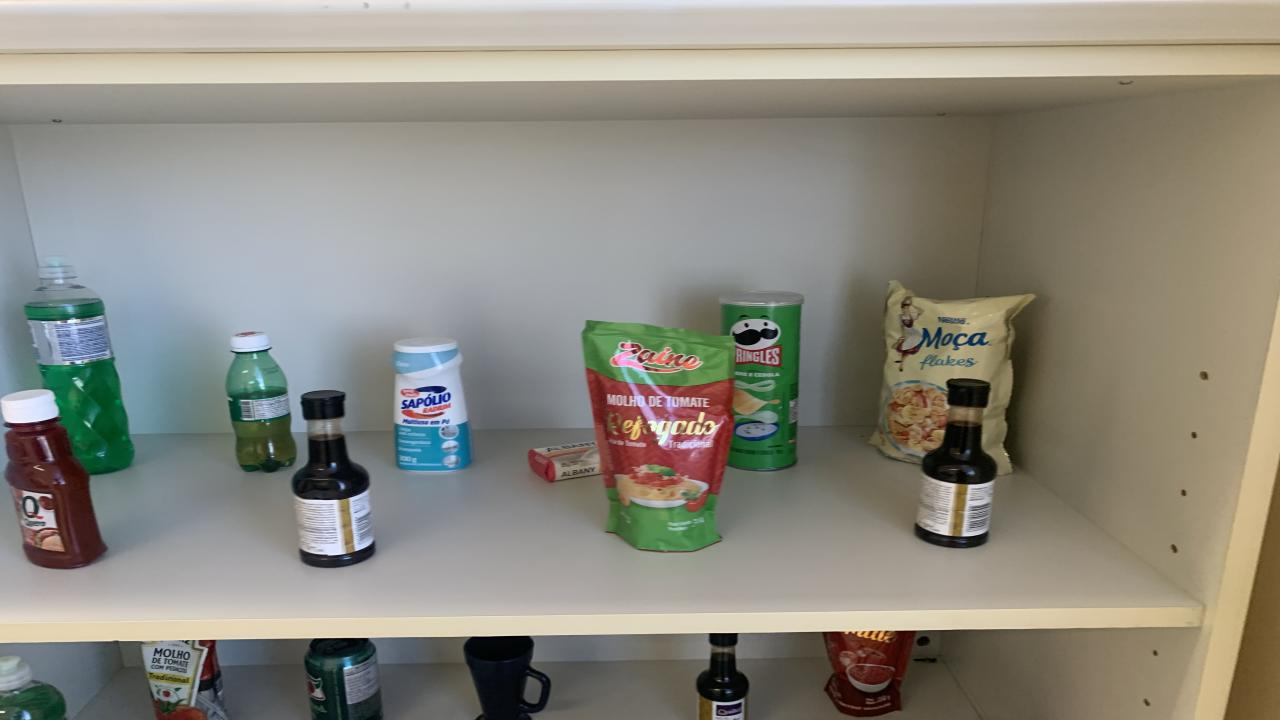Cleaner-Cleanup_Items: (392, 338, 472, 471)
Detergent-Cleanup_Items: (25, 266, 132, 472), (0, 656, 65, 720)
English_Sauce-Pantry_Items: (292, 392, 375, 568), (915, 379, 998, 548), (698, 634, 750, 720)
Flakes-Snacks: (870, 281, 1035, 474)
Guarana-Drinks: (225, 332, 298, 472)
Guarana_Can-Drinks: (305, 638, 382, 720)
Ketchup-Pantry_Items: (0, 390, 108, 568)
Pringles-Snacks: (720, 291, 805, 471)
Soap-Cleanup_Items: (528, 442, 600, 482)
Tomato_Sauce-Pantry_Items: (582, 321, 735, 551), (822, 630, 915, 716), (142, 639, 228, 720)
